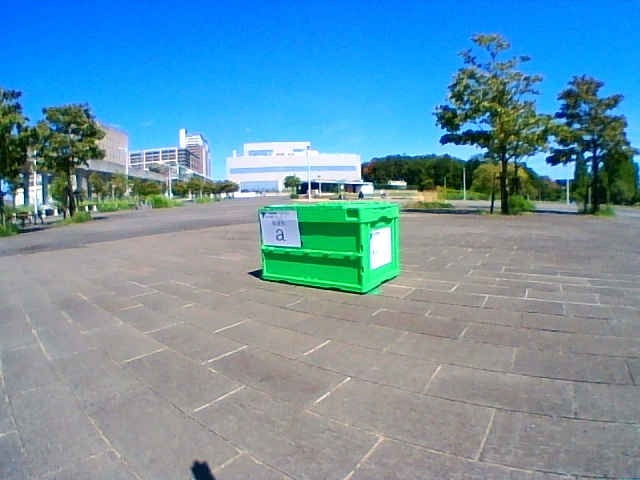green_box: (259, 202, 398, 294)
tag_a: (265, 213, 296, 244)
